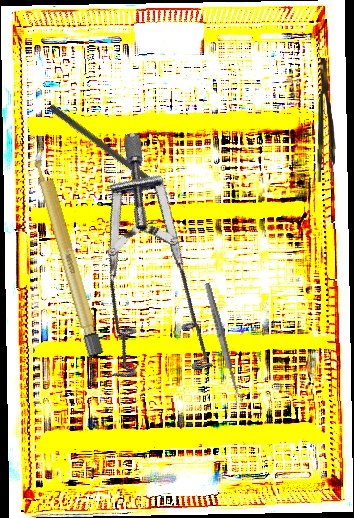Pusher: (47, 103, 187, 212)
Scalpel Handle: (30, 148, 104, 358)
Speculum: (32, 128, 289, 413)
Surgical Spoon: (203, 282, 243, 404)
Tissue Forceps: (316, 57, 338, 183)
